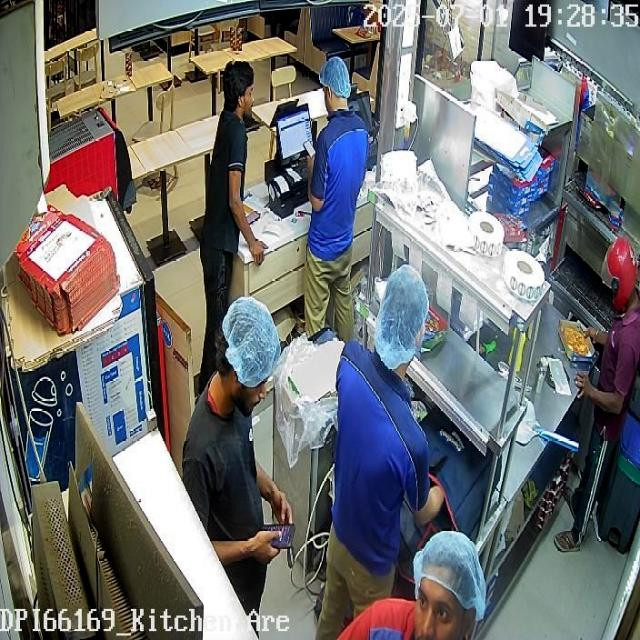helmet: (598, 234, 639, 313)
